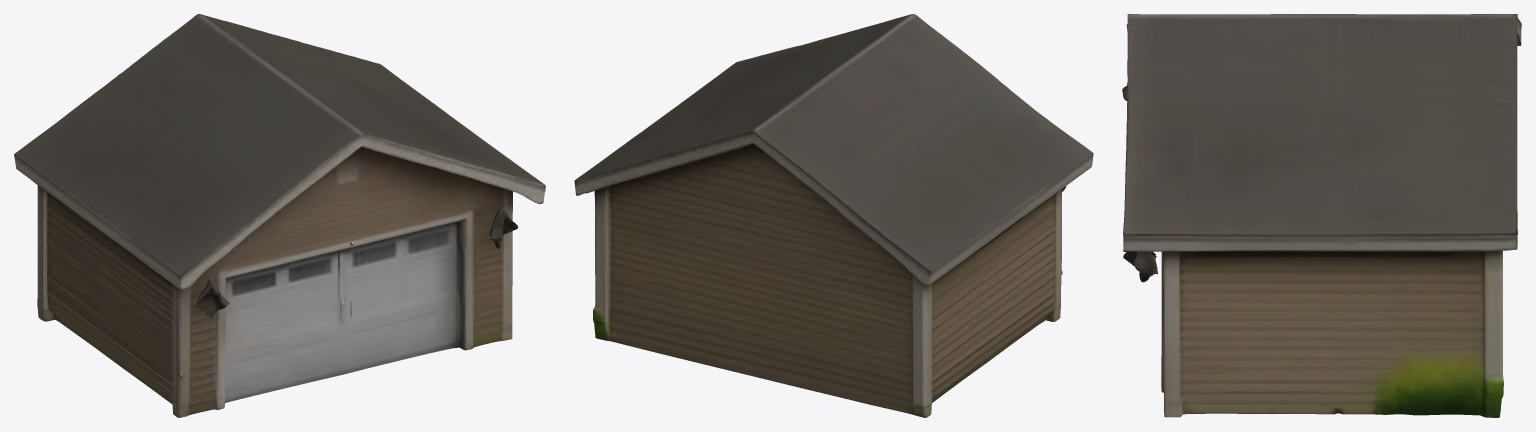
Rendered from garage 2.glb.
The picture shows the model from 3 angles, left to right: view 1: azimuth 30°, elevation 25°; view 2: azimuth 150°, elevation 25°; view 3: azimuth 270°, elevation 25°; orthographic projection. The views are drawn at different scales.
Parts seen in each view (by area): view 1: world; view 2: world; view 3: world.
Boxes of the visible parts, x1,y1,x2,y2 form: world: (14,14,545,417); world: (574,14,1093,417); world: (1122,14,1521,417).
Size of the model in its own units: 1 by 0.6753 by 0.7961.
1 material, 1 textured.
